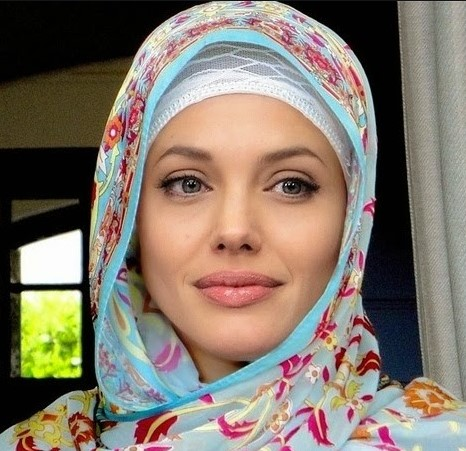face_no_mask: (118, 52, 355, 373)
